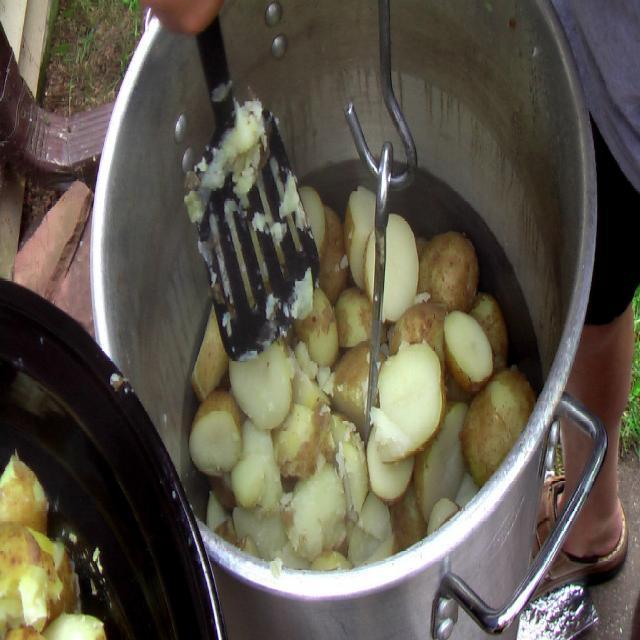Potato: (189, 183, 539, 575), (0, 454, 108, 638), (459, 368, 537, 492), (424, 226, 482, 307)
